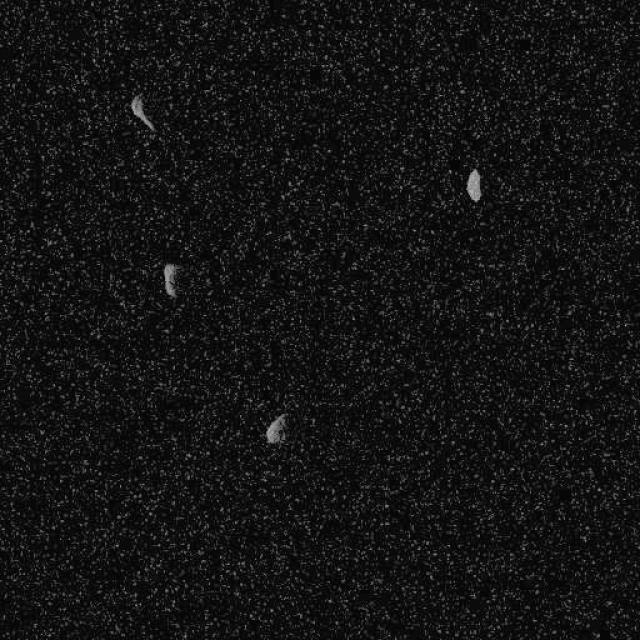D2: (129, 92, 156, 132), (264, 412, 288, 443), (161, 262, 179, 298), (465, 168, 483, 202)
